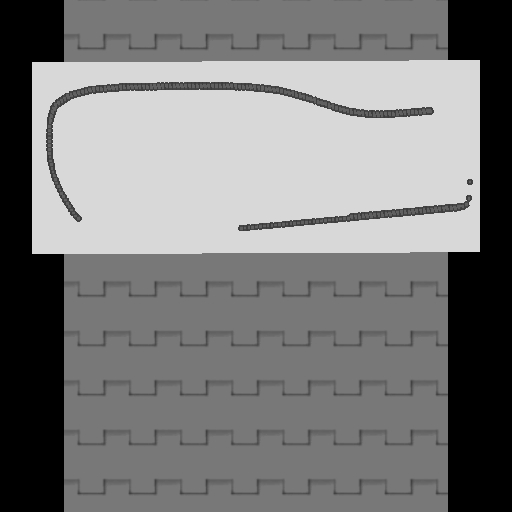Defect: (82, 209, 242, 240)
